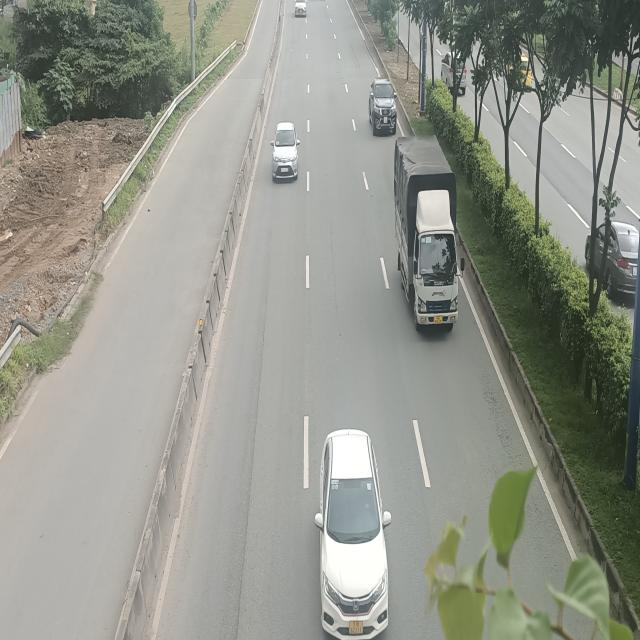car: (316, 432, 393, 640), (271, 122, 300, 181), (370, 79, 400, 136)
truck: (392, 134, 465, 330)
